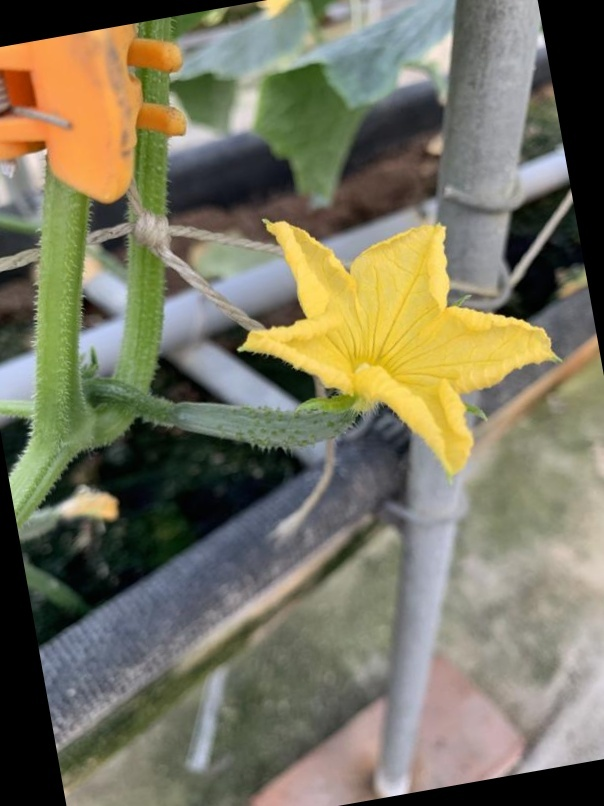flowering: (153, 214, 544, 486)
